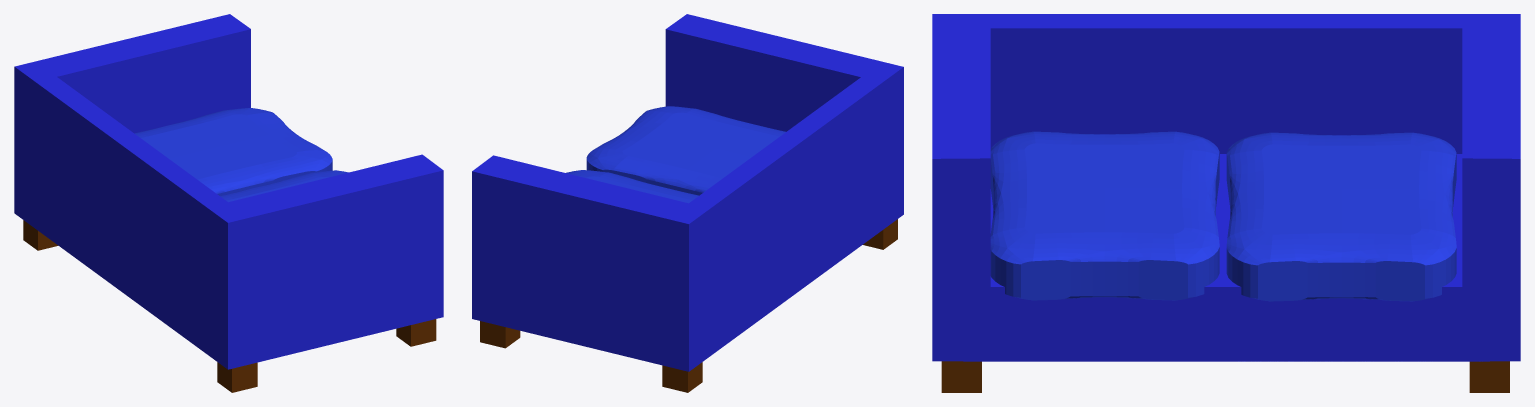
File: couch.fbx
3 views of the same model, side by side, from view 1: azimuth 30°, elevation 25°; view 2: azimuth 150°, elevation 25°; view 3: azimuth 270°, elevation 25° (orthographic). The views are drawn at different scales.
Parts seen in each view (by area): view 1: couch, Cube.001; view 2: couch, Cube.001; view 3: couch, Cube.001.
Part boxes in pixels (left/top/right/bottom): couch: left=14, top=14, right=443, bottom=392; Cube.001: left=134, top=108, right=348, bottom=202; couch: left=472, top=14, right=903, bottom=392; Cube.001: left=566, top=106, right=785, bottom=203; couch: left=932, top=14, right=1520, bottom=392; Cube.001: left=990, top=131, right=1456, bottom=301.
Bounding box in the file's own units: 294 × 218 × 490.
